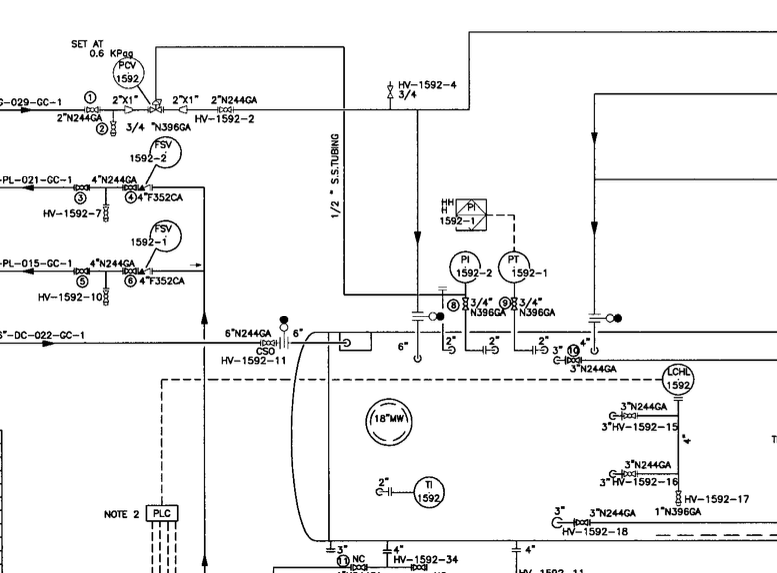Instrument-offset: (495, 247, 553, 288), (126, 216, 185, 256), (130, 132, 186, 170), (442, 248, 499, 283), (410, 472, 455, 515), (656, 363, 701, 398), (110, 58, 149, 90)
Instrument-square-offset: (437, 196, 490, 233)
